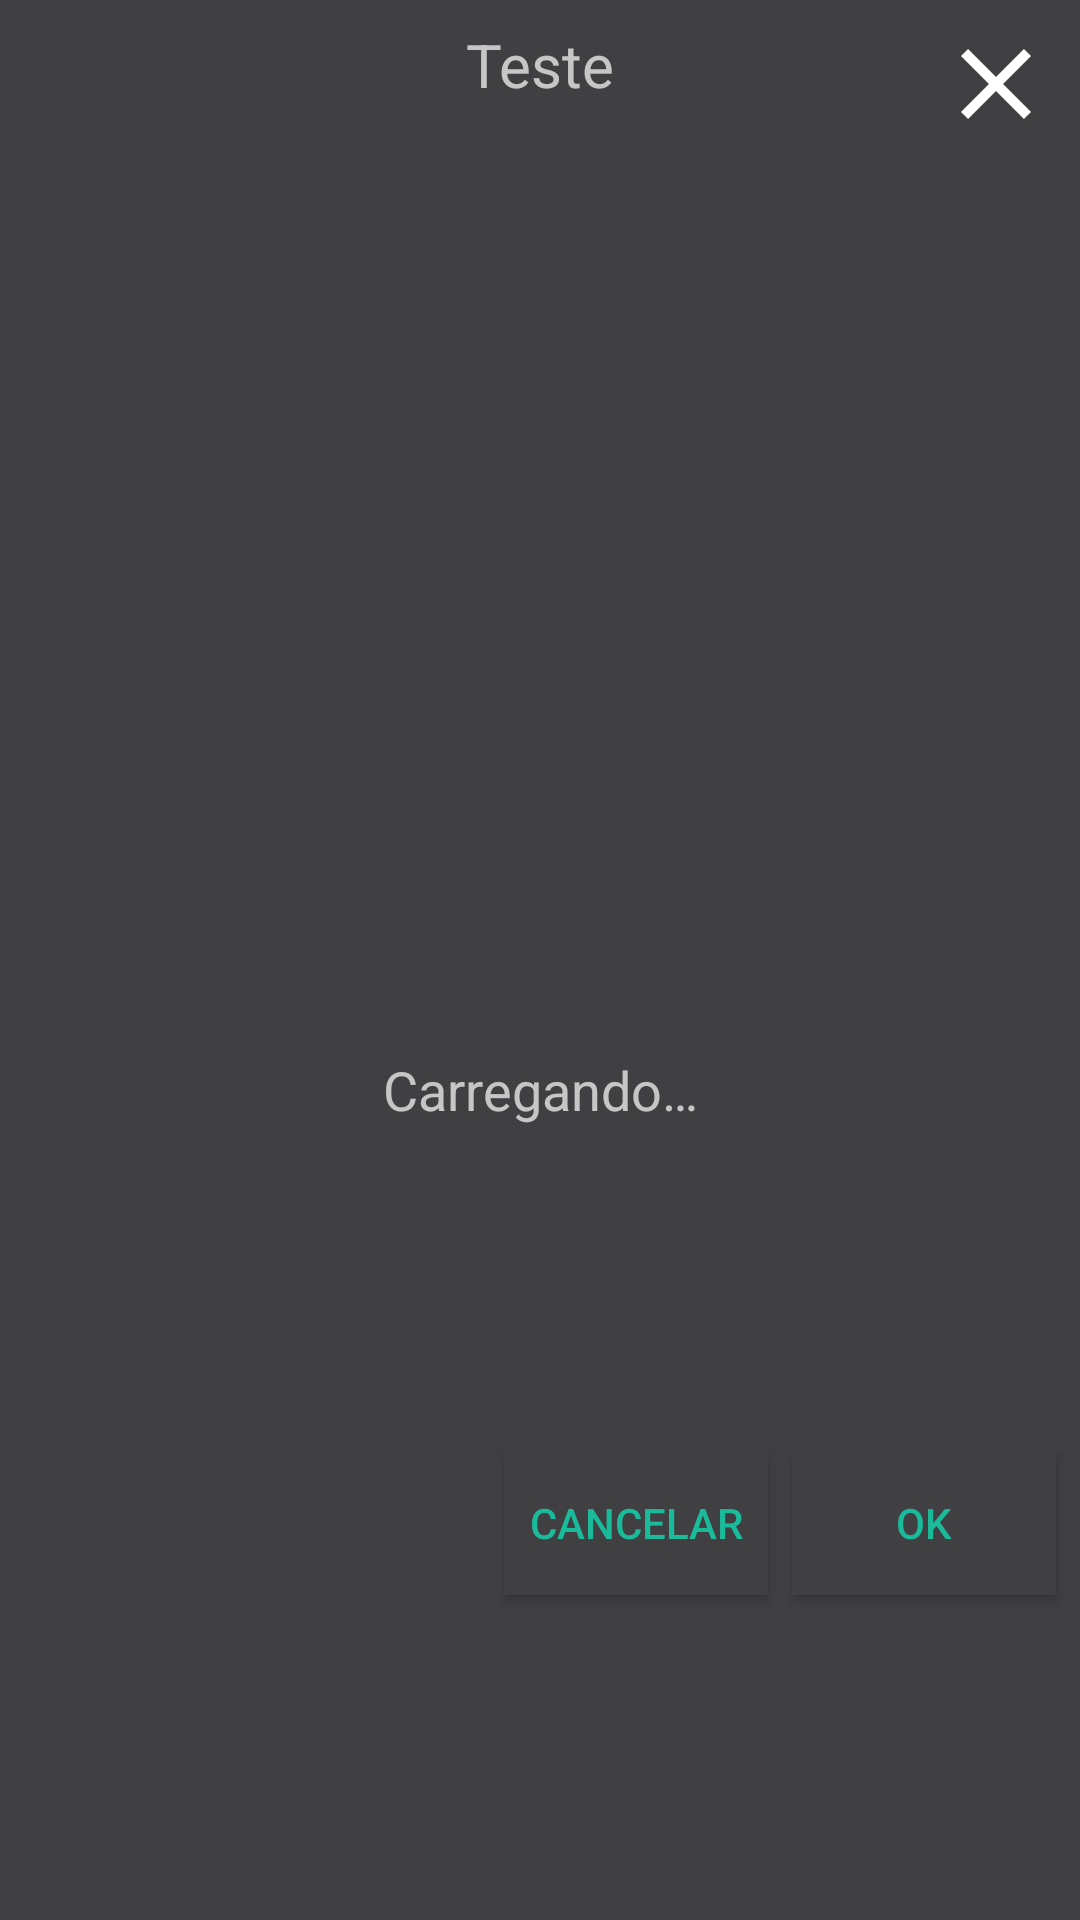

Named icons in this screenshot (1080*1920) and their bounding boxes, [left=x1, top=y1, right=x2, bottom=y2]:
close: [left=961, top=49, right=1031, bottom=119]
